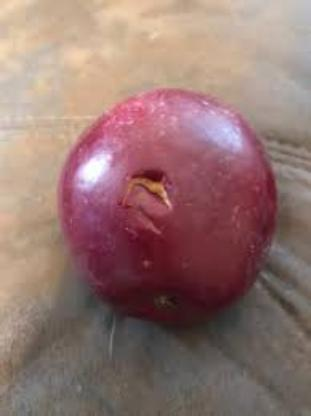defect: (120, 142, 188, 320)
